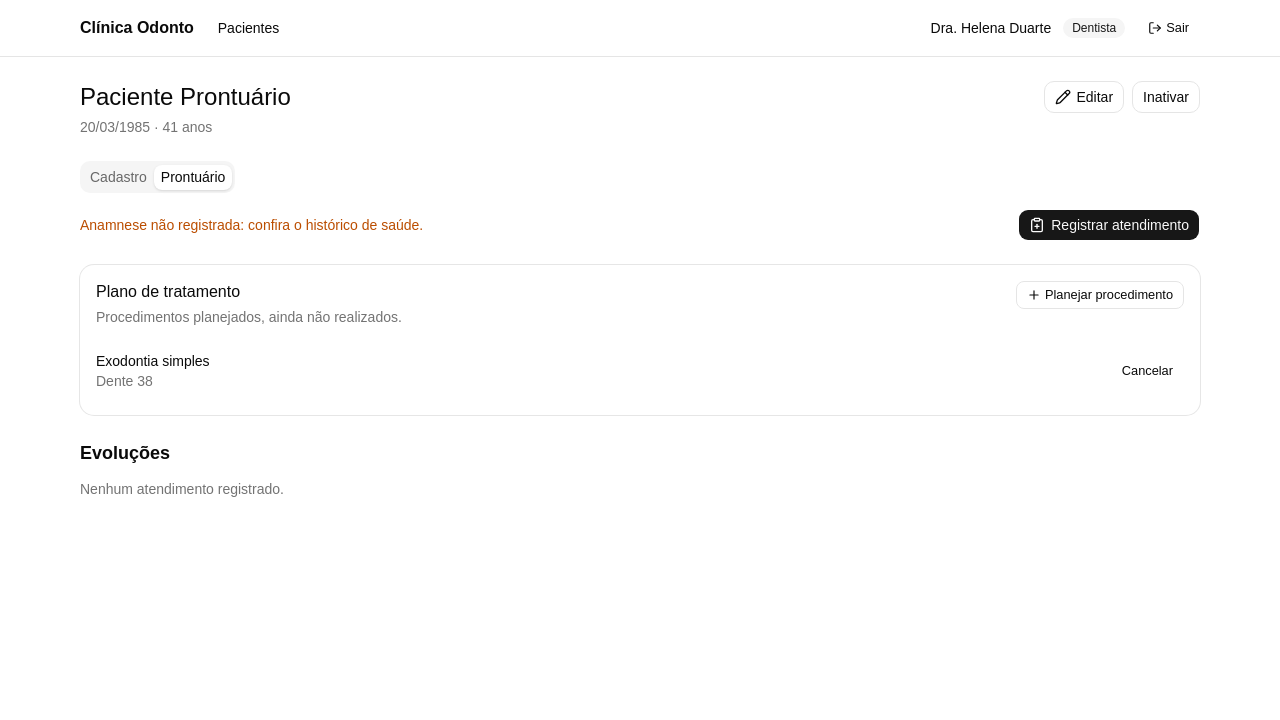
Scenario: plano de tratamento › cancelar um planejado exige motivo
Click the button "Cancelar" at (1147, 371), box [1111, 357, 1184, 385]
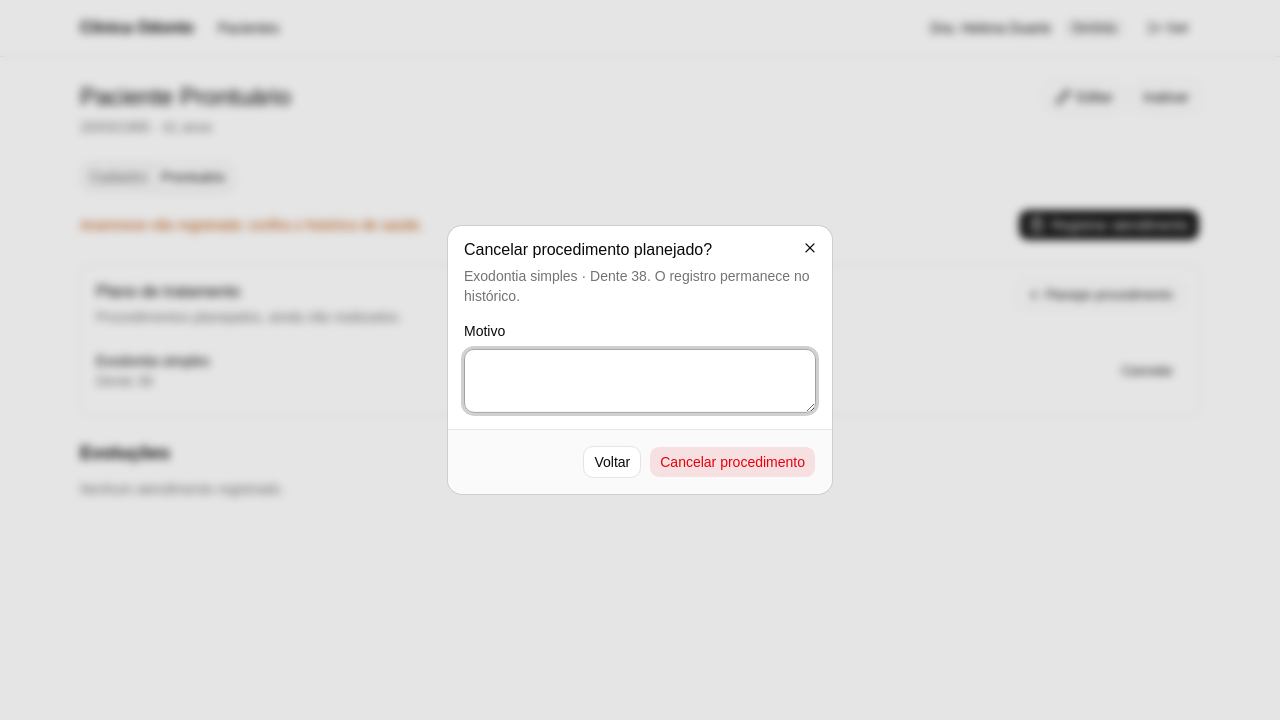
Click the button "Cancelar procedimento" at (733, 462), box [649, 446, 816, 478]
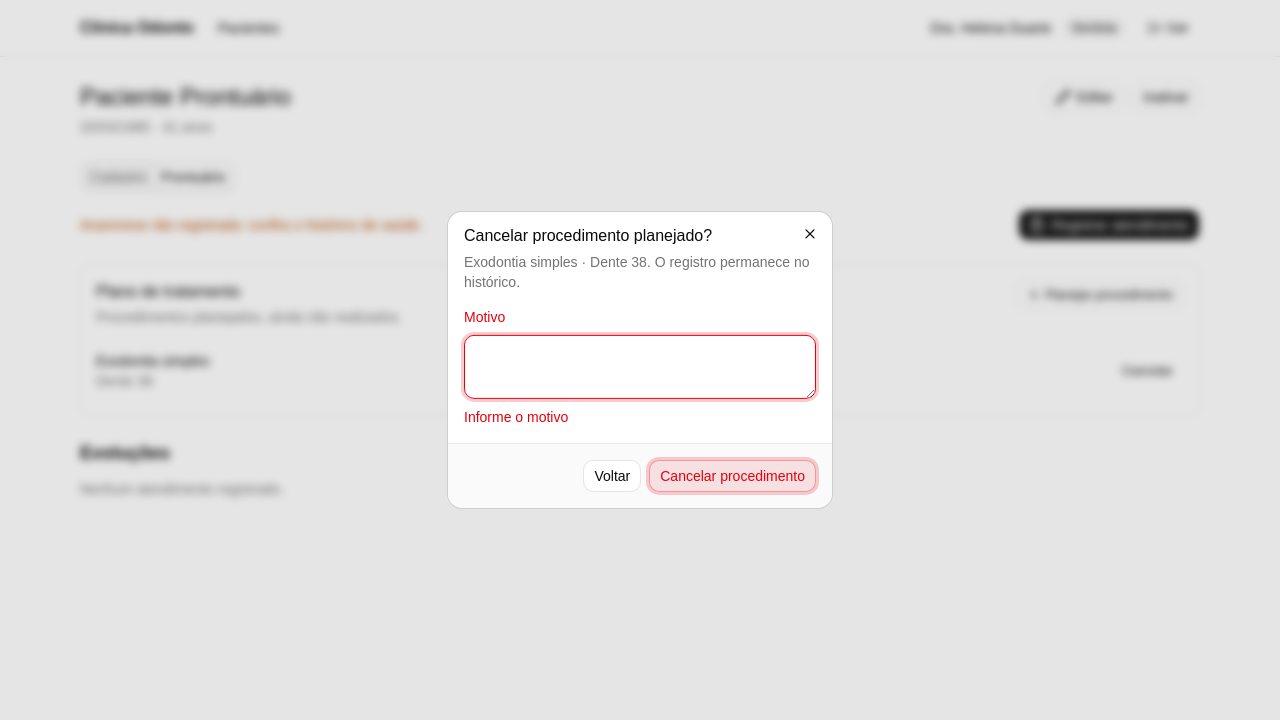
Result: the text "Informe o motivo" is shown at [464, 409, 568, 425]
Type "Paciente optou por não extrair" into the text box labelled "Motivo" at (640, 367), box [464, 335, 816, 399]
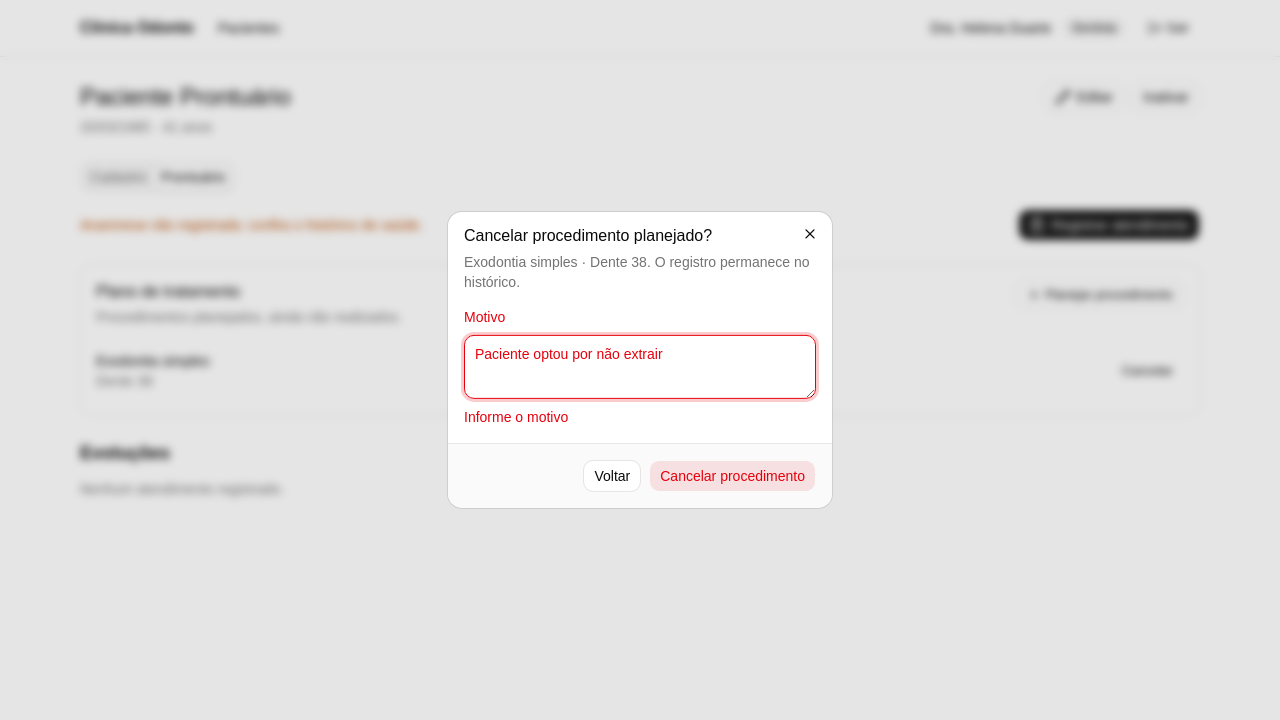
Click the button "Cancelar procedimento" at (733, 476), box [649, 460, 816, 492]
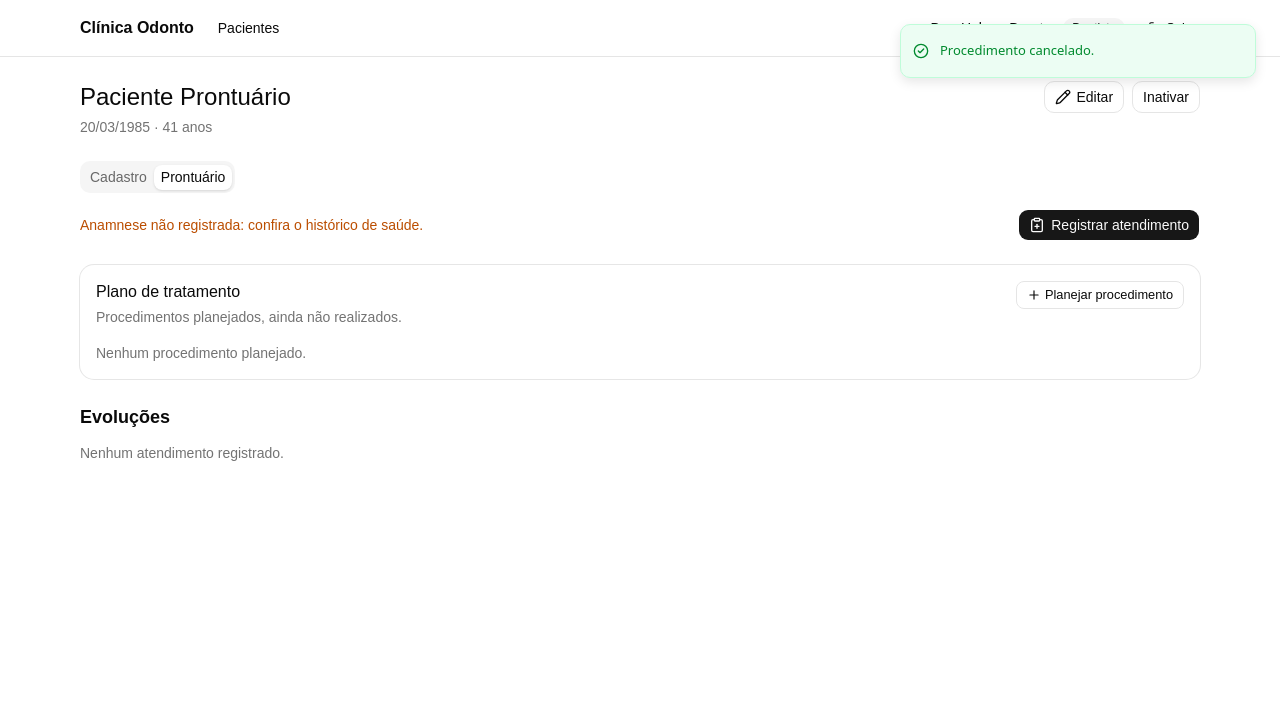
Result: the text "Nenhum procedimento planejado." is shown at [96, 345, 306, 361]
